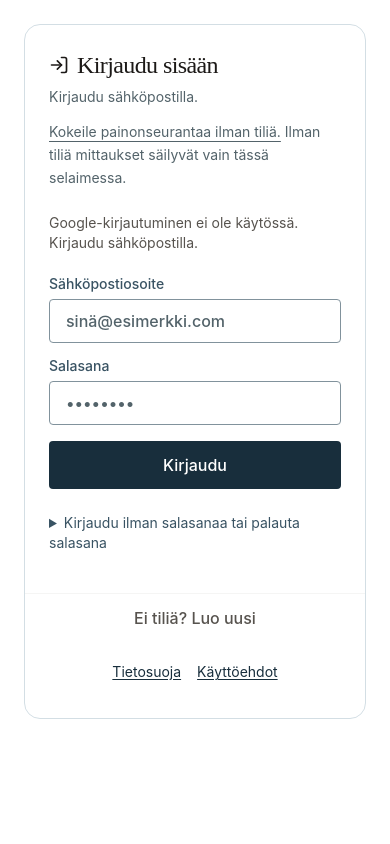
it: validates email format
Type "not-an-email" into the field at (195, 321), box 49,299 -> 341,343
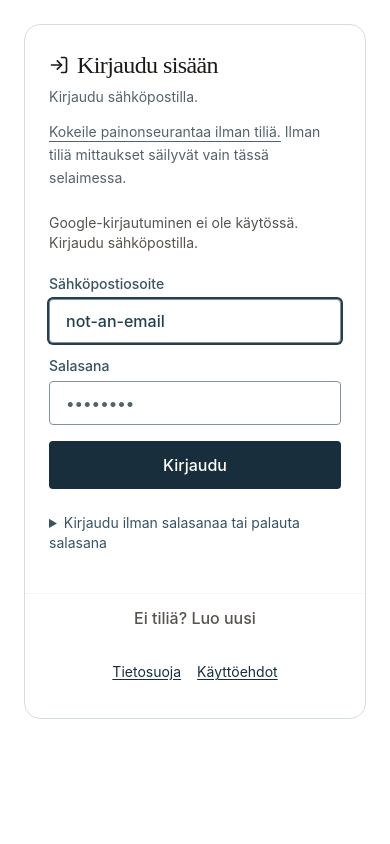
Click the button "Kirjaudu" at (195, 465), box 49,441 -> 341,489
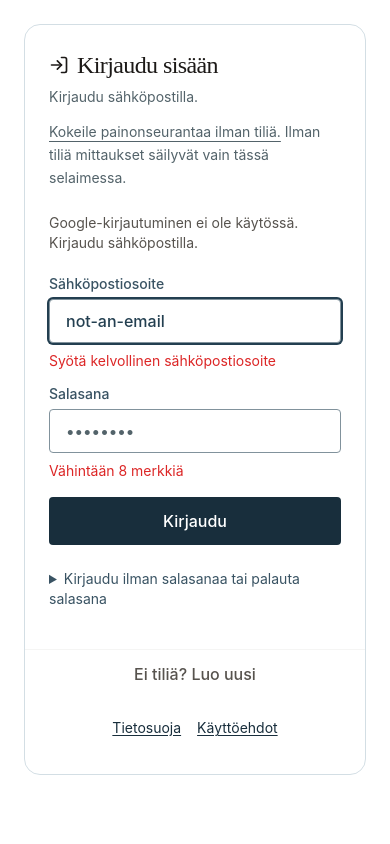
Expected: the text "Syötä kelvollinen sähköpostiosoite" is shown, 49,352 -> 276,369
